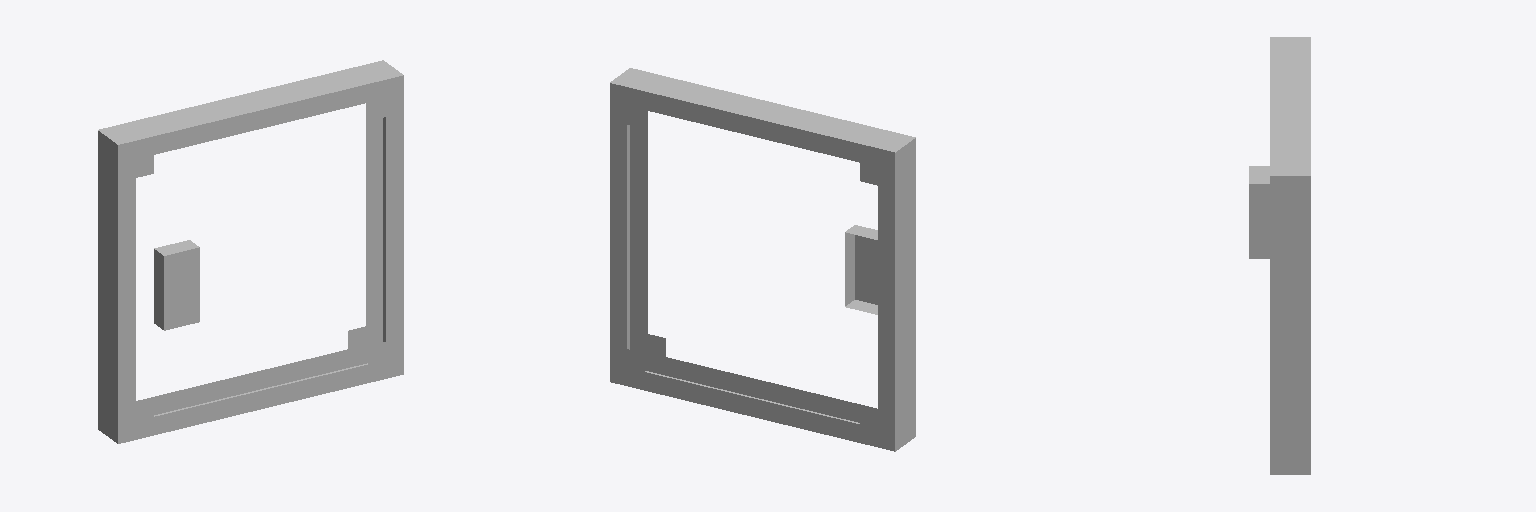
Rendered from reinforced_locker_door_frame_r.obj.
3 renders of one model, left to right at view 1: azimuth 30°, elevation 25°; view 2: azimuth 150°, elevation 25°; view 3: azimuth 270°, elevation 25°, orthographic.
Visible parts, largest first — view 1: reinforced_locker_door_frame_r; view 2: reinforced_locker_door_frame_r; view 3: reinforced_locker_door_frame_r.
Boxes of the visible parts, box(x1,y1,x2,y2) form: reinforced_locker_door_frame_r: box(98, 60, 403, 443); reinforced_locker_door_frame_r: box(610, 68, 915, 451); reinforced_locker_door_frame_r: box(1249, 37, 1310, 474).
Bounding box in the file's own units: 1 × 1 × 0.1875.